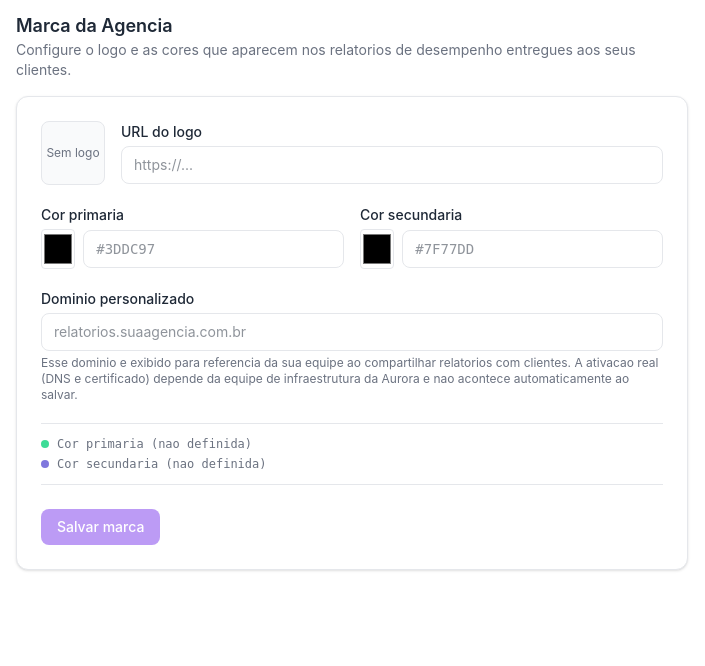
Test: AgencyBrandingPage - ADR-0048 (US-43 branding configuration) › custom domain (US-44) › saves a valid custom domain along with the rest of the branding profile
In the field labelled "Dominio personalizado": (352, 332) [41,313,663,351], type "relatorios.agenciacriativa.com.br"
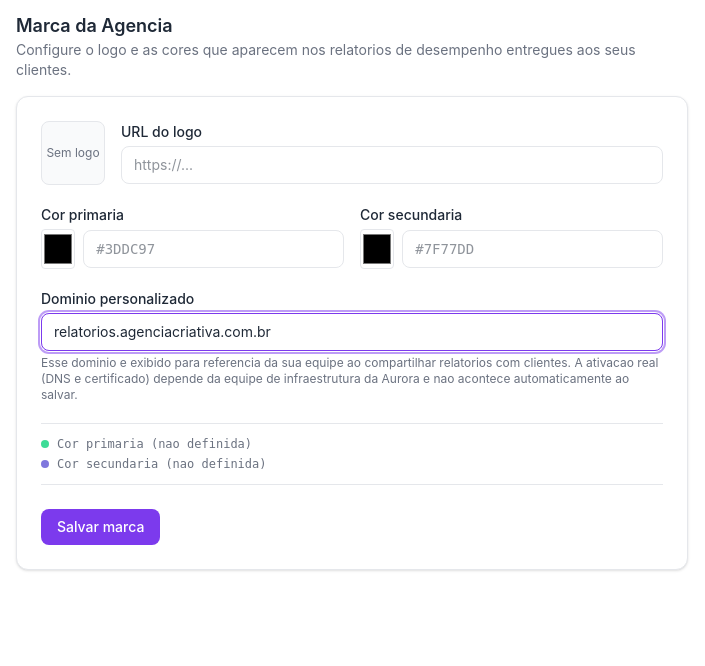
Click the button "Salvar marca": click(101, 527) [41,509,160,545]
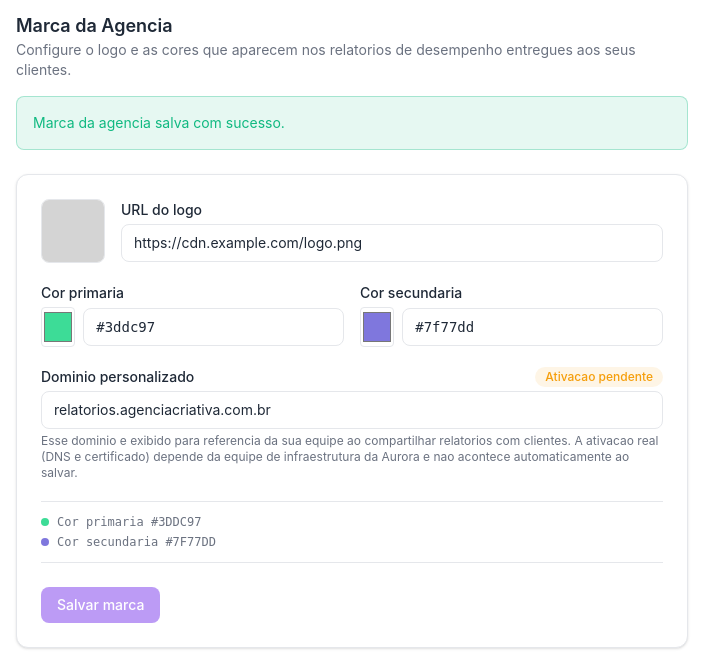
Result: the text "Marca da agencia salva com sucesso." is shown at [16,96,688,150]
